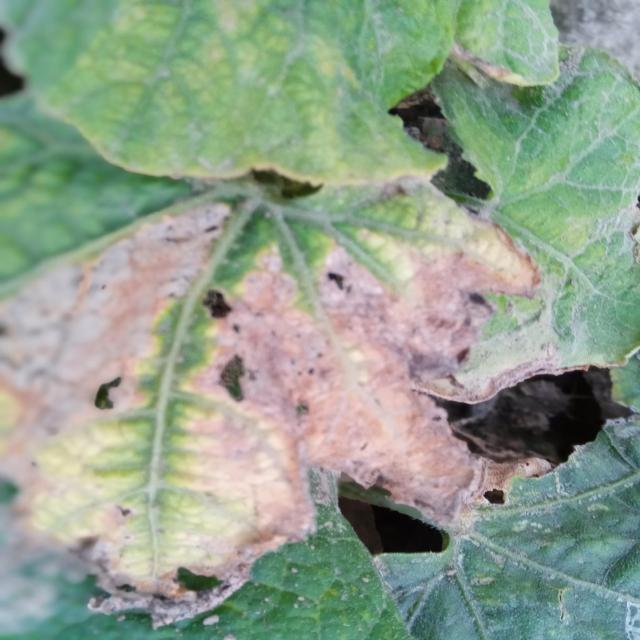cucumber_anthracnose: (62, 42, 628, 615)
